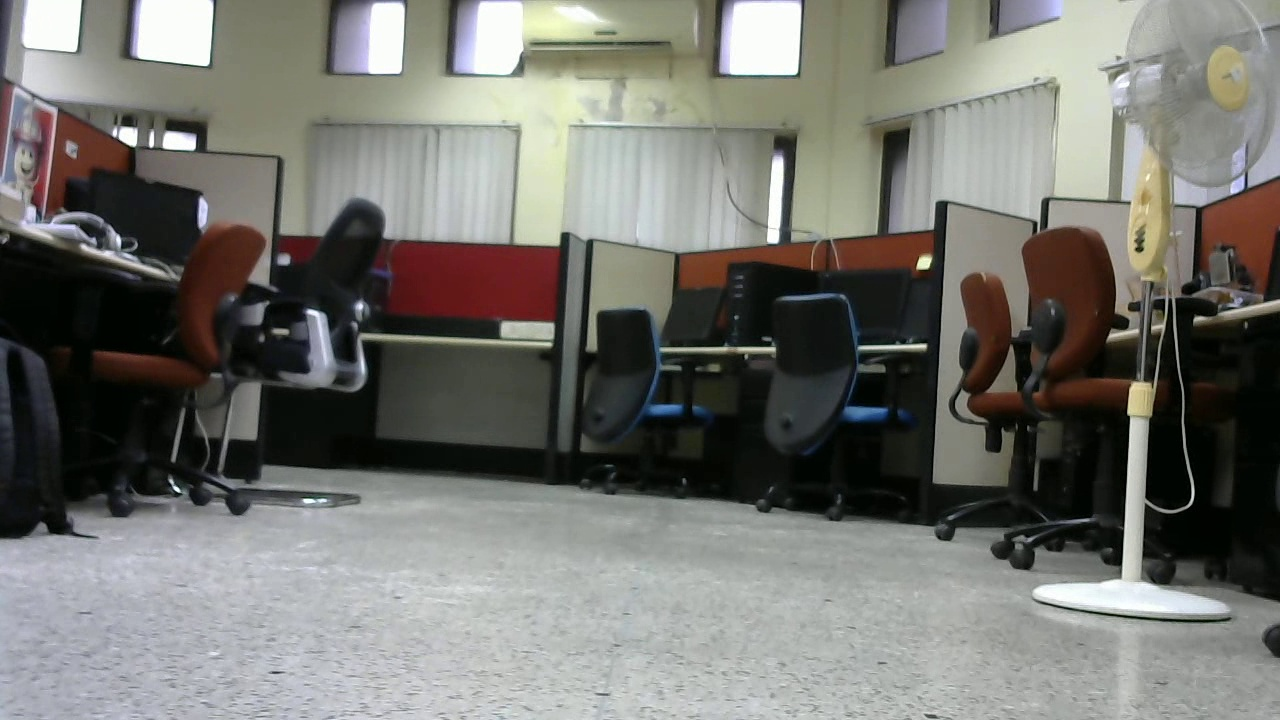chair: (1014, 228, 1187, 580), (90, 218, 254, 510), (254, 197, 406, 507), (934, 274, 1070, 545), (761, 291, 909, 523), (585, 303, 723, 500)
